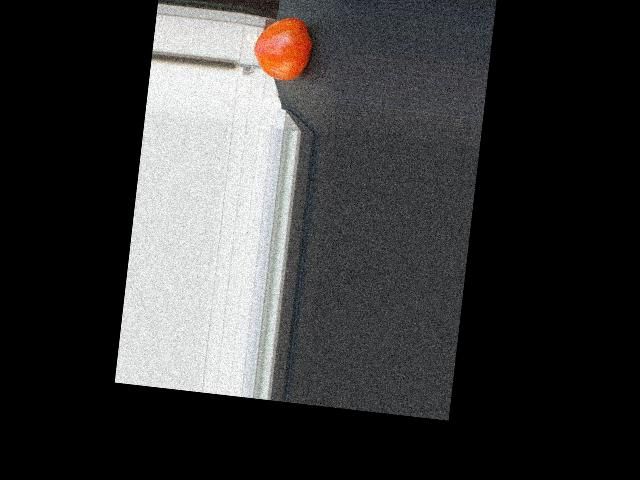tomato: (250, 14, 314, 83)
